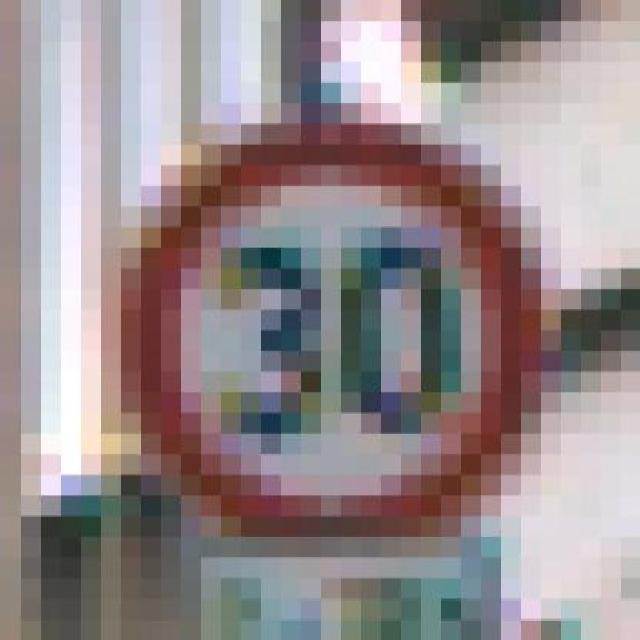Speed Limit 30 KMPh: (80, 82, 580, 558)
